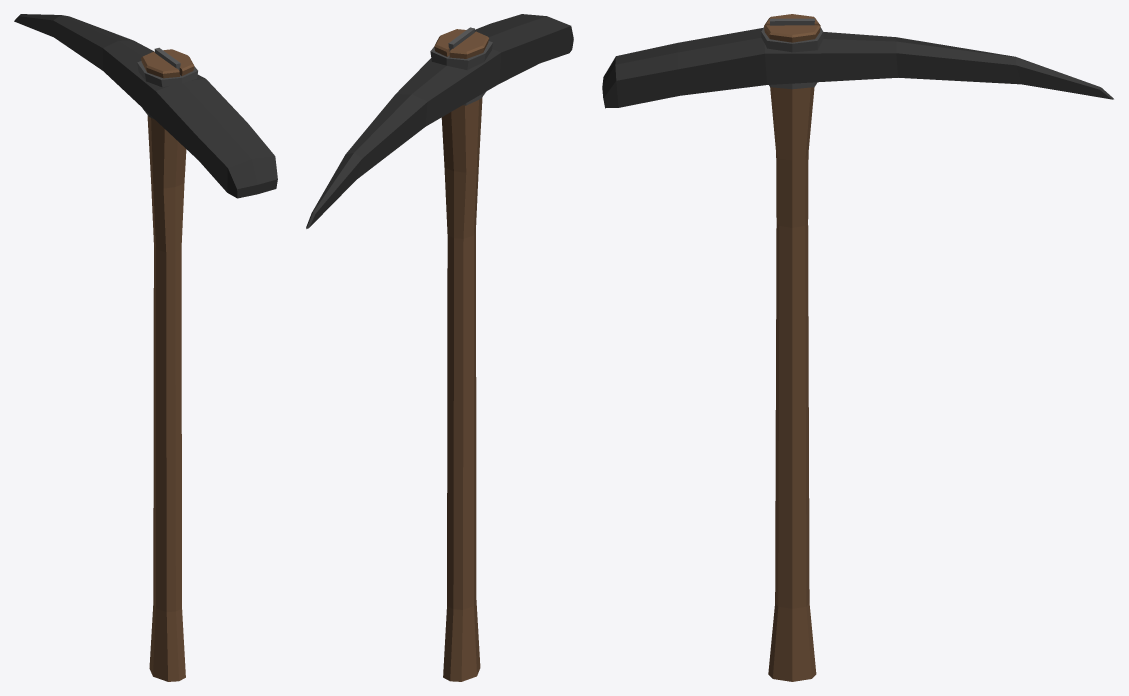
Rendered from iron_pickaxe.glb.
The picture shows the model from 3 angles, left to right: view 1: azimuth 30°, elevation 25°; view 2: azimuth 150°, elevation 25°; view 3: azimuth 270°, elevation 25°; orthographic projection. The views are drawn at different scales.
Visible parts, largest first — view 1: pickaxe; view 2: pickaxe; view 3: pickaxe.
Boxes of the visible parts, x1,y1,x2,y2 form: pickaxe: (14, 14, 277, 681); pickaxe: (306, 14, 573, 681); pickaxe: (602, 14, 1113, 681).
Size of the model in its own units: 0.1109 by 1.27 by 0.9047.
Materials: 1 (1 with a texture image).
